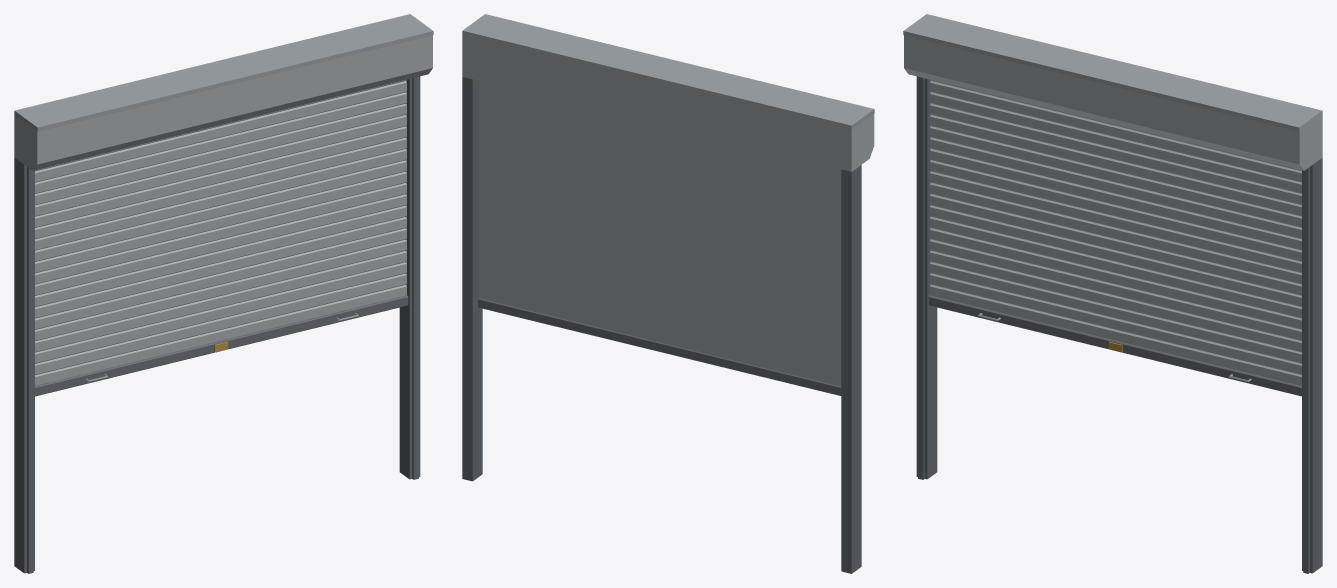
File: SC_Bld_Store_Shutter_3m_Half.gltf
3 views of the same model, side by side, from view 1: azimuth 30°, elevation 25°; view 2: azimuth 150°, elevation 25°; view 3: azimuth 330°, elevation 25° (orthographic).
Parts seen in each view (by area): view 1: SC_Bld_Store_Shutter_3m_Half; view 2: SC_Bld_Store_Shutter_3m_Half; view 3: SC_Bld_Store_Shutter_3m_Half.
Boxes of the visible parts, x1=… form: SC_Bld_Store_Shutter_3m_Half: x1=14, y1=14, x2=433, y2=573; SC_Bld_Store_Shutter_3m_Half: x1=462, y1=14, x2=874, y2=573; SC_Bld_Store_Shutter_3m_Half: x1=903, y1=14, x2=1322, y2=573.
Size of the model in its own units: 3 by 3.3 by 0.305.
1 material, 1 textured.
